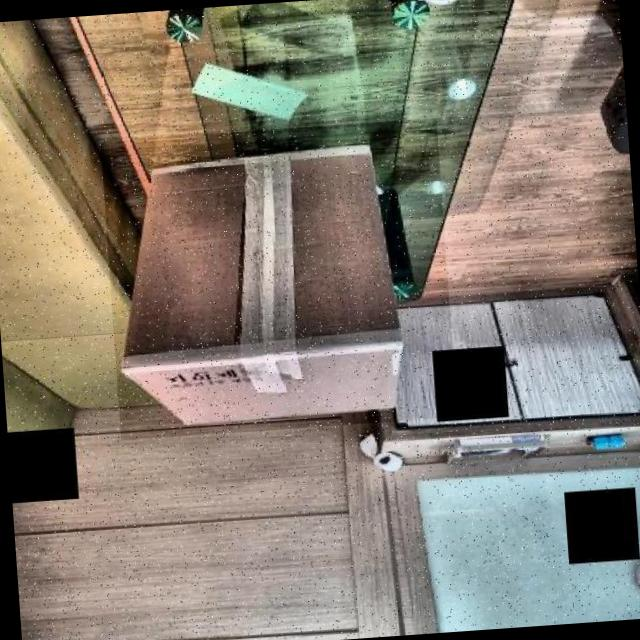box: (100, 118, 457, 440)
